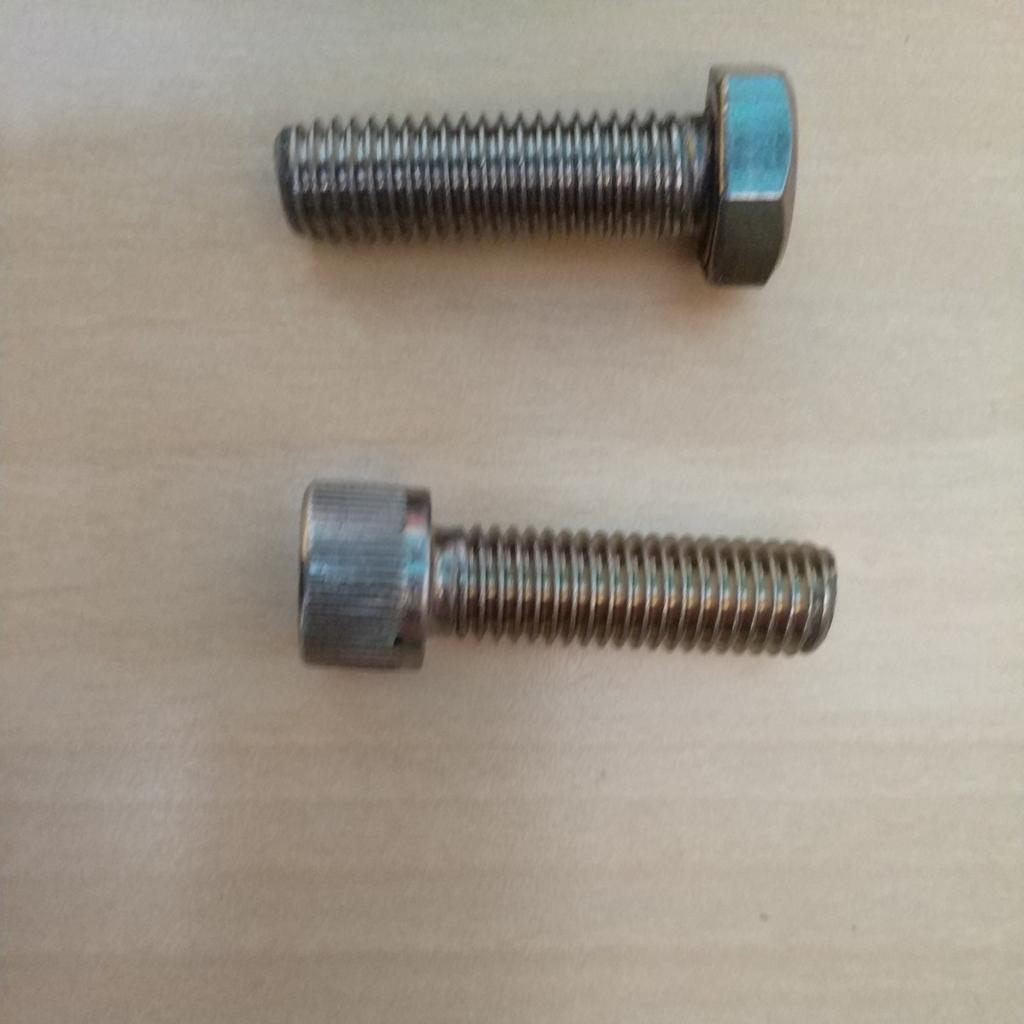screwtype1silver: (291, 471, 847, 694)
screwtype2silver: (263, 57, 803, 295)
